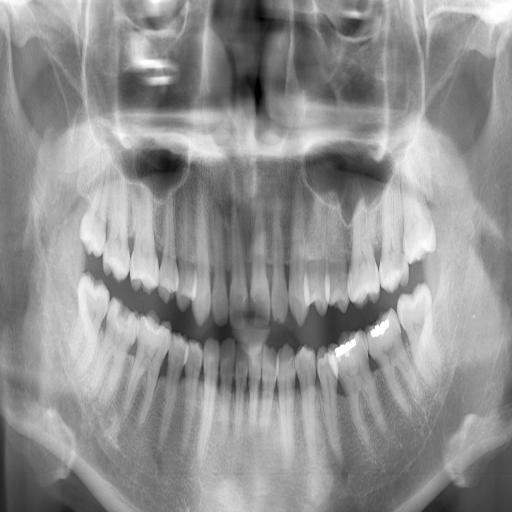Wisdom teeth: (78, 275, 109, 370), (398, 284, 431, 367), (403, 199, 435, 262), (80, 190, 106, 256)
